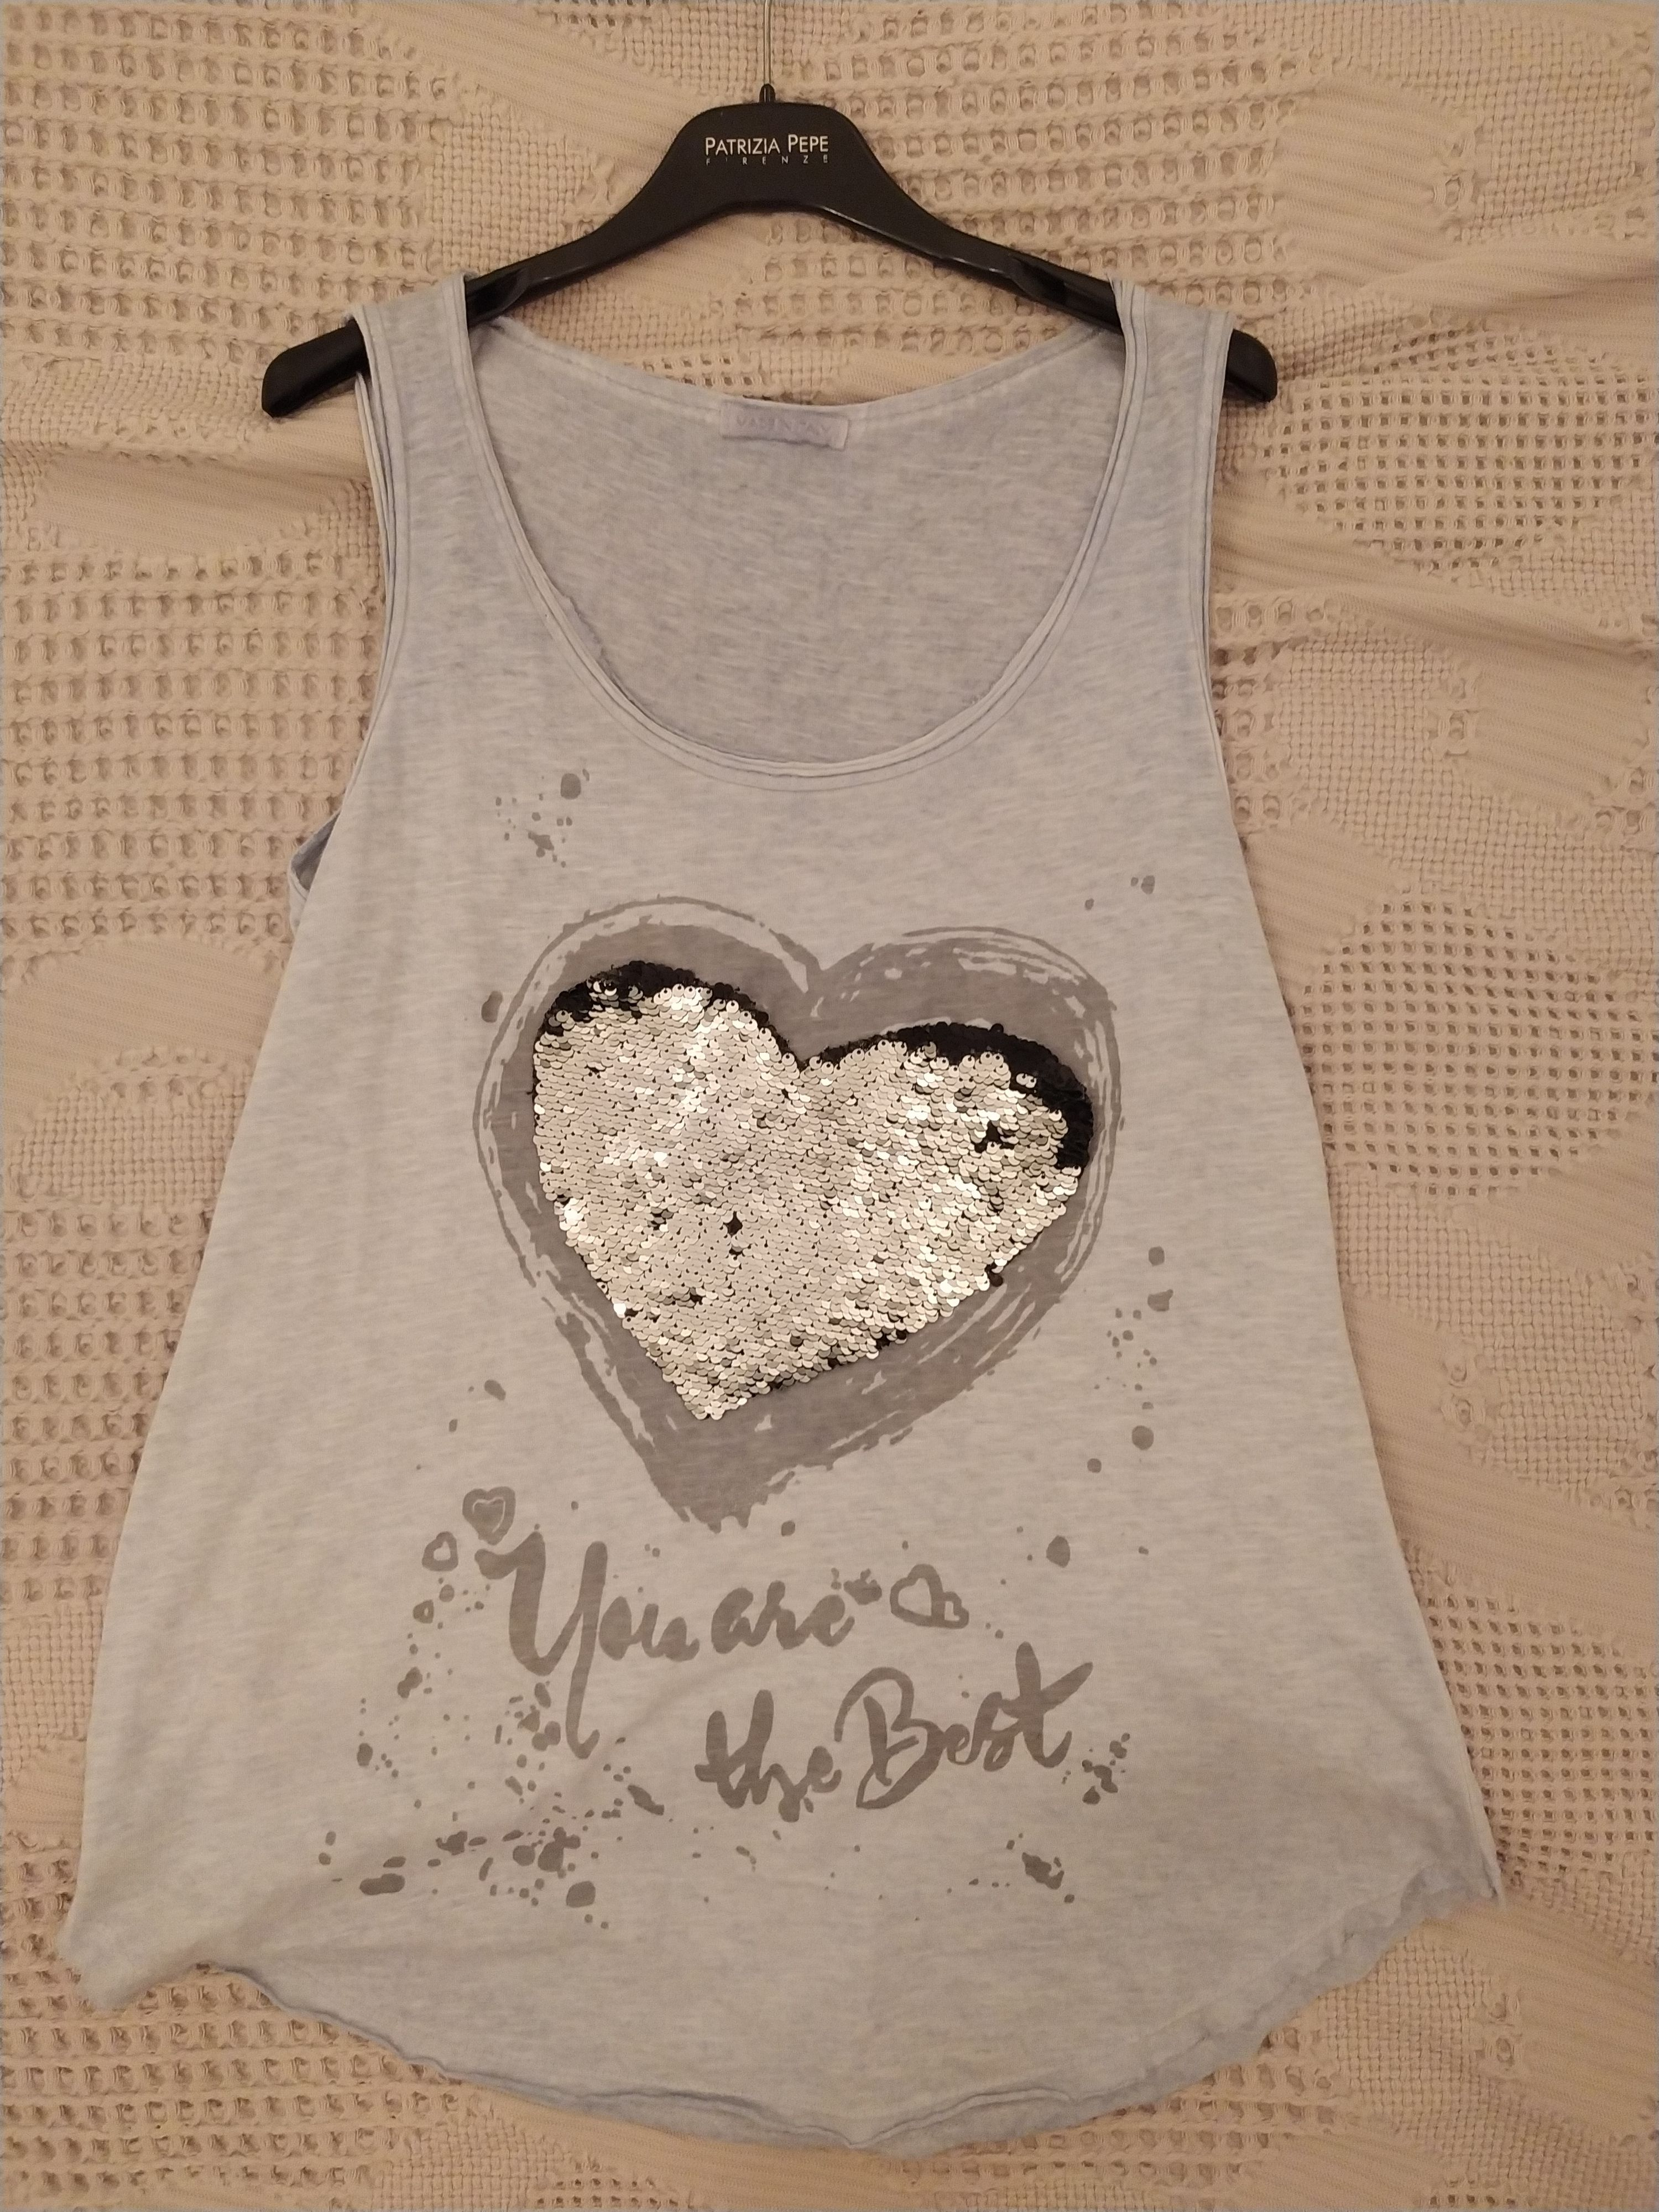clothes: (98, 280, 1521, 2149)
